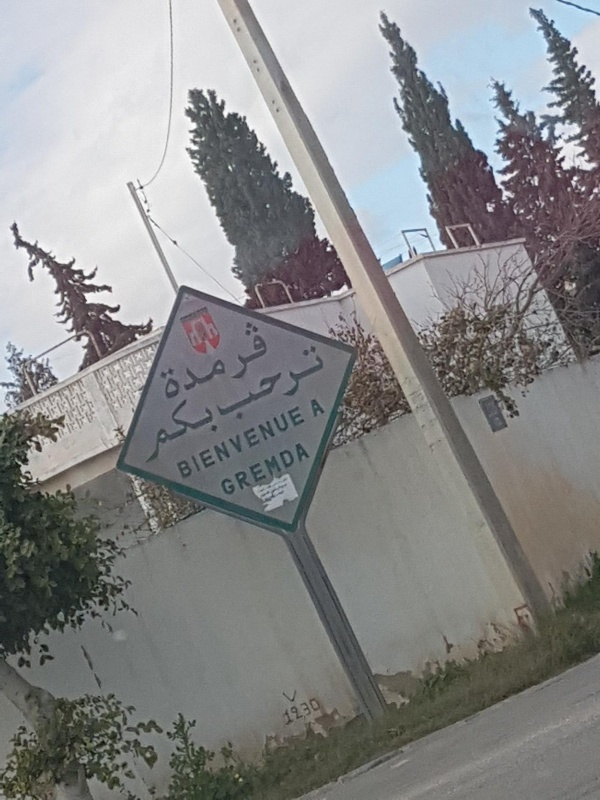text: (161, 311, 176, 402), (177, 311, 192, 402), (193, 311, 208, 402), (209, 311, 224, 402), (225, 311, 240, 402), (241, 311, 256, 402), (257, 311, 272, 402), (209, 342, 224, 431), (225, 342, 240, 431), (241, 342, 256, 431), (257, 342, 272, 431), (273, 342, 288, 431), (289, 342, 304, 431), (305, 342, 320, 431), (161, 387, 176, 466), (177, 387, 192, 466), (193, 387, 208, 466), (177, 404, 192, 480), (193, 404, 208, 480), (209, 404, 224, 480), (225, 404, 240, 480), (241, 404, 256, 480), (257, 404, 272, 480), (273, 404, 288, 480), (289, 404, 304, 480), (321, 342, 333, 431), (209, 387, 221, 466), (225, 440, 240, 498), (241, 440, 256, 498), (257, 440, 272, 498), (273, 440, 288, 498), (289, 440, 304, 498), (152, 387, 160, 466), (289, 693, 304, 729), (305, 693, 320, 729), (216, 440, 224, 498), (305, 440, 313, 498), (257, 476, 272, 506), (273, 476, 288, 506), (278, 693, 288, 729), (307, 395, 320, 419), (289, 684, 301, 708), (278, 684, 288, 708), (305, 404, 308, 480), (174, 404, 176, 480), (289, 476, 294, 506), (321, 395, 326, 419), (321, 693, 324, 729), (159, 311, 160, 402), (273, 311, 274, 402), (253, 476, 256, 506), (207, 342, 208, 431)
